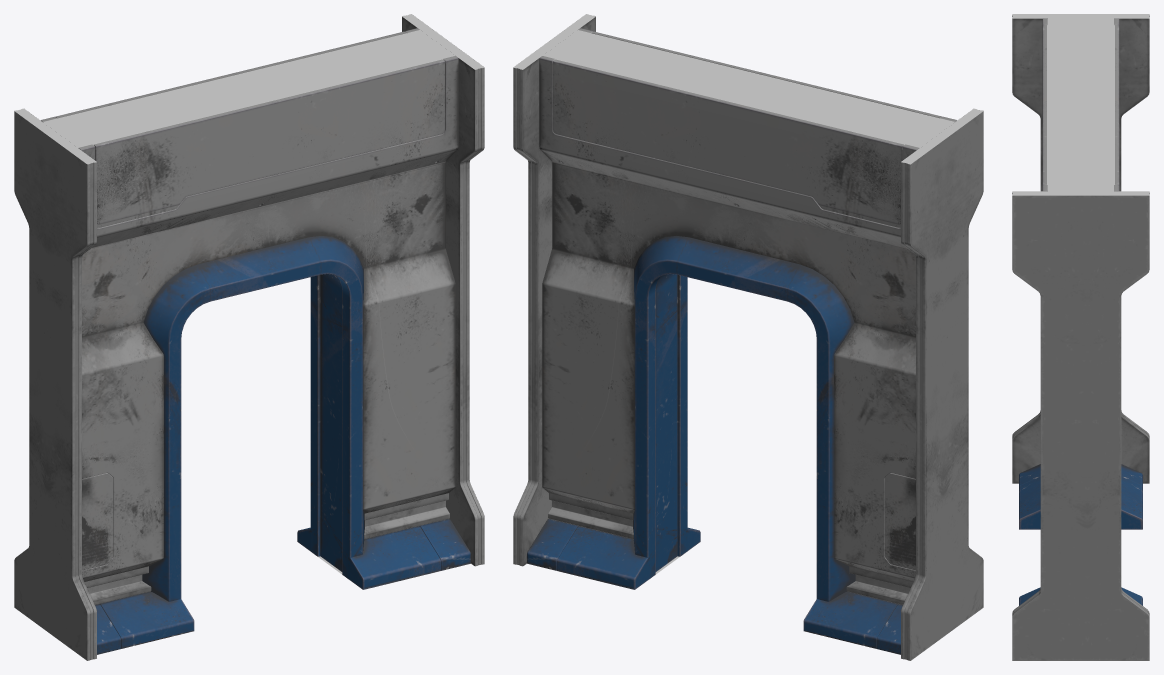
The model's file is SM_CorridorWall03Door.fbx.
The picture shows the model from 3 angles, left to right: view 1: azimuth 30°, elevation 25°; view 2: azimuth 150°, elevation 25°; view 3: azimuth 270°, elevation 25°; orthographic projection. The views are drawn at different scales.
Parts seen in each view (by area): view 1: SM_CorridorWall03Door_LOD0; view 2: SM_CorridorWall03Door_LOD0; view 3: SM_CorridorWall03Door_LOD0.
Part boxes in pixels (box(x1,y1,x2,y2)): SM_CorridorWall03Door_LOD0: box(14, 14, 484, 660); SM_CorridorWall03Door_LOD0: box(513, 14, 983, 660); SM_CorridorWall03Door_LOD0: box(1012, 14, 1149, 660).
Size of the model in its own units: 320 by 102 by 382.
Materials: 2 (1 with a texture image).
